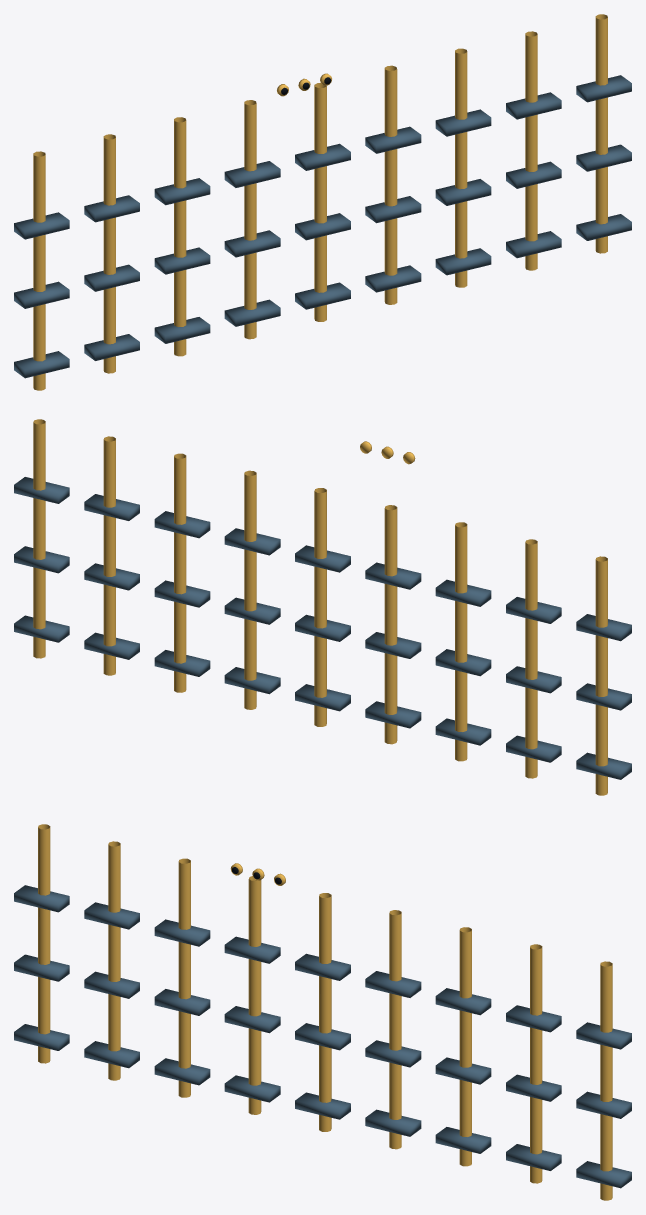
The model's file is 16_L93_LaboratoryUtilityBridge.fbx.
3 renders of one model, top to bottom at view 1: azimuth 30°, elevation 25°; view 2: azimuth 150°, elevation 25°; view 3: azimuth 330°, elevation 25°, orthographic.
Parts seen in each view (by area): view 1: L92_LaboratoryUtilityBridge_Part_0000, L92_LaboratoryUtilityBridge_Part_0001, L92_LaboratoryUtilityBridge_Part_0002; view 2: L92_LaboratoryUtilityBridge_Part_0000, L92_LaboratoryUtilityBridge_Part_0001, L92_LaboratoryUtilityBridge_Part_0002; view 3: L92_LaboratoryUtilityBridge_Part_0000, L92_LaboratoryUtilityBridge_Part_0001, L92_LaboratoryUtilityBridge_Part_0002.
Boxes of the visible parts, <box> form: L92_LaboratoryUtilityBridge_Part_0000: <box>33,14,607,390</box>; L92_LaboratoryUtilityBridge_Part_0001: <box>14,126,491,378</box>; L92_LaboratoryUtilityBridge_Part_0002: <box>435,75,631,258</box>; L92_LaboratoryUtilityBridge_Part_0000: <box>33,419,607,795</box>; L92_LaboratoryUtilityBridge_Part_0001: <box>154,528,631,779</box>; L92_LaboratoryUtilityBridge_Part_0002: <box>14,477,210,659</box>; L92_LaboratoryUtilityBridge_Part_0000: <box>38,824,612,1200</box>; L92_LaboratoryUtilityBridge_Part_0001: <box>14,885,491,1153</box>; L92_LaboratoryUtilityBridge_Part_0002: <box>435,988,631,1188</box>.
Bounding box in the file's own units: 760 × 322 × 66.2.
